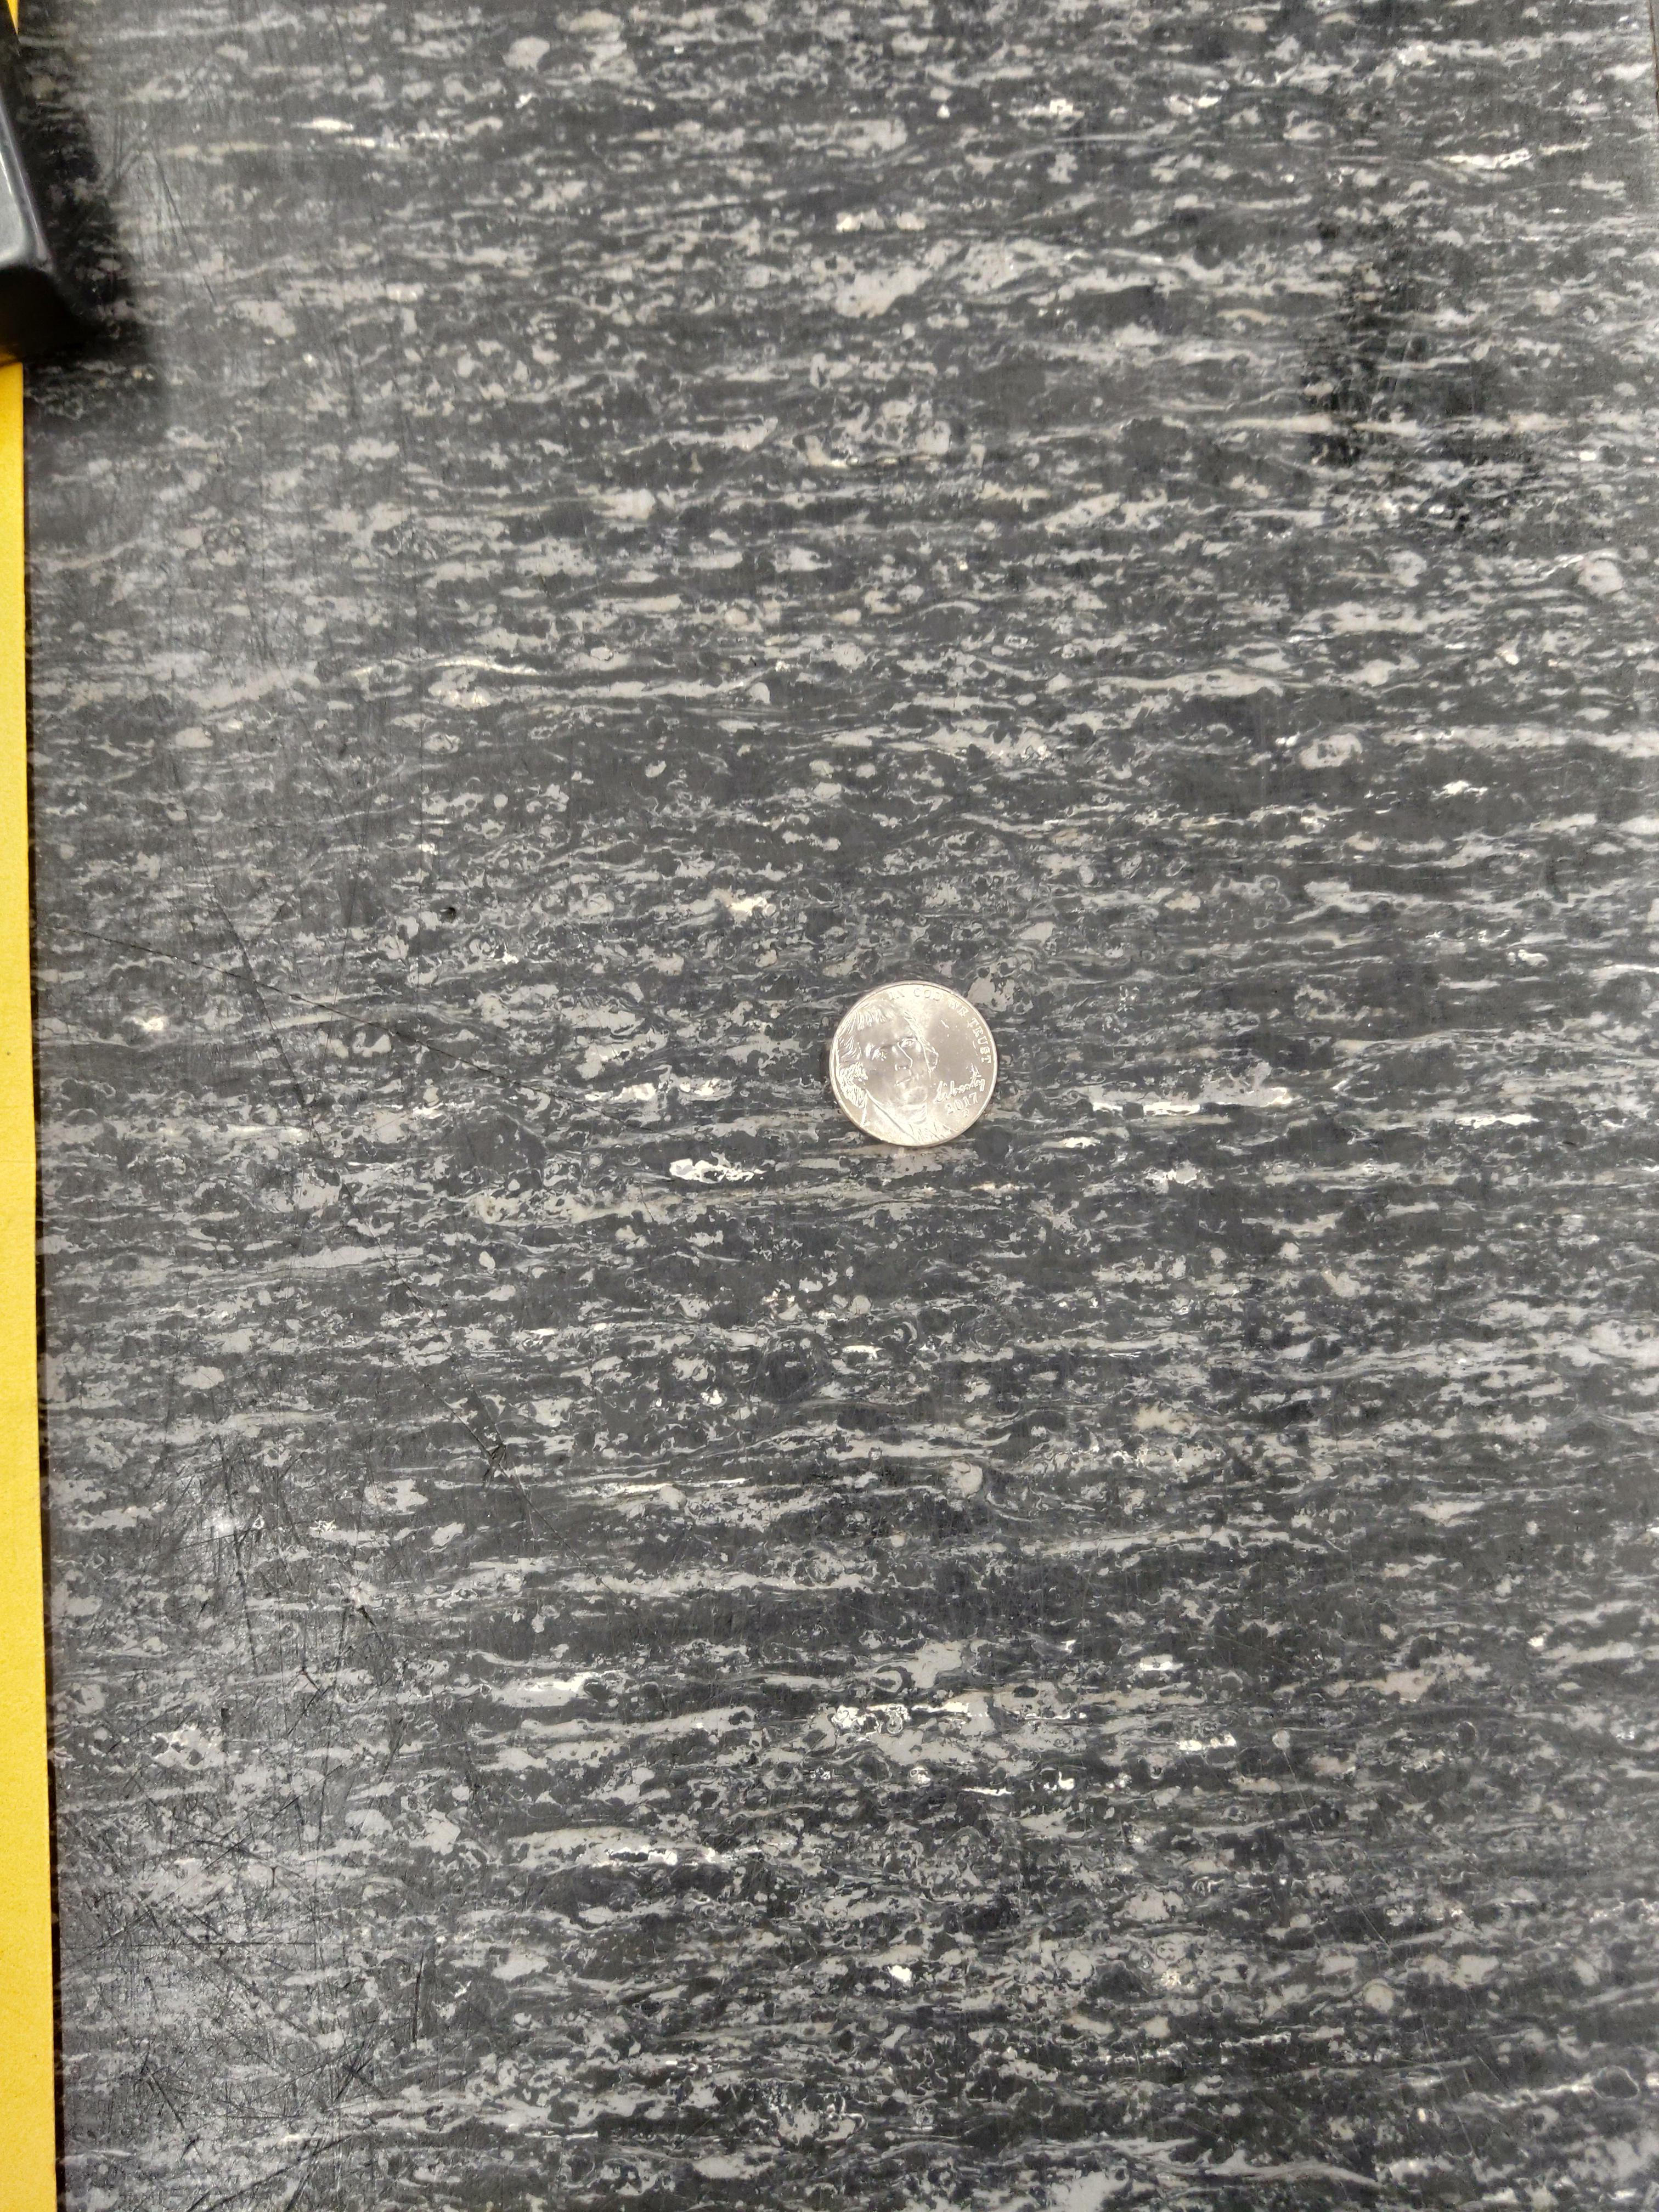Nickel: (828, 977, 1002, 1148)
